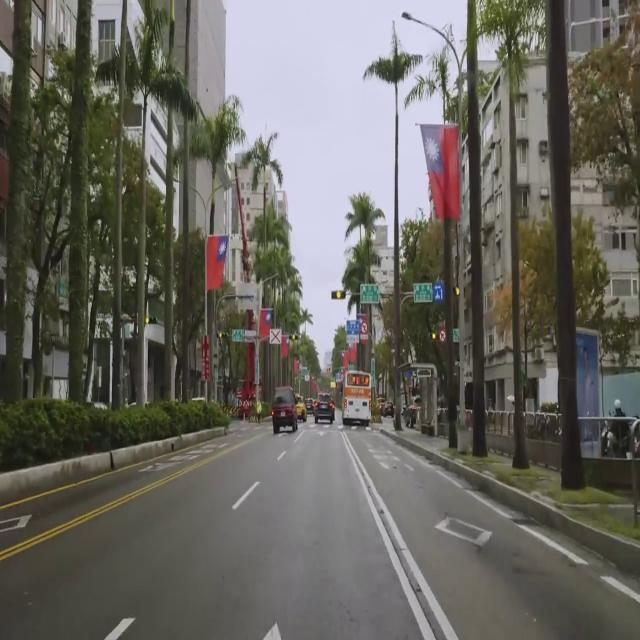yellow light: (331, 290, 346, 300), (288, 333, 299, 341)
